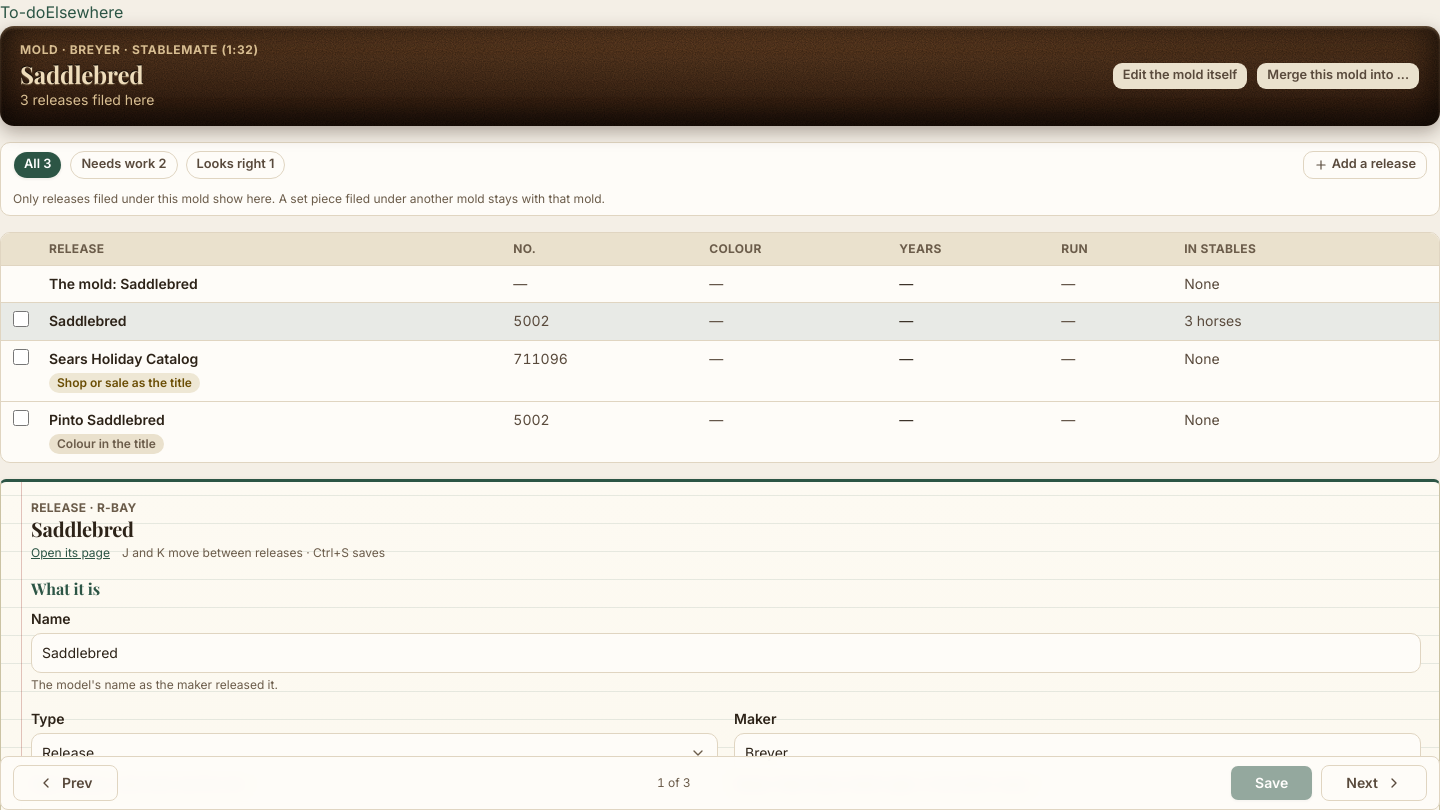
merging and removing › keeps a moderator from merging before 243, and says why
Click the checkbox named "Tick Saddlebred": click(21, 319) [13,311,29,327]
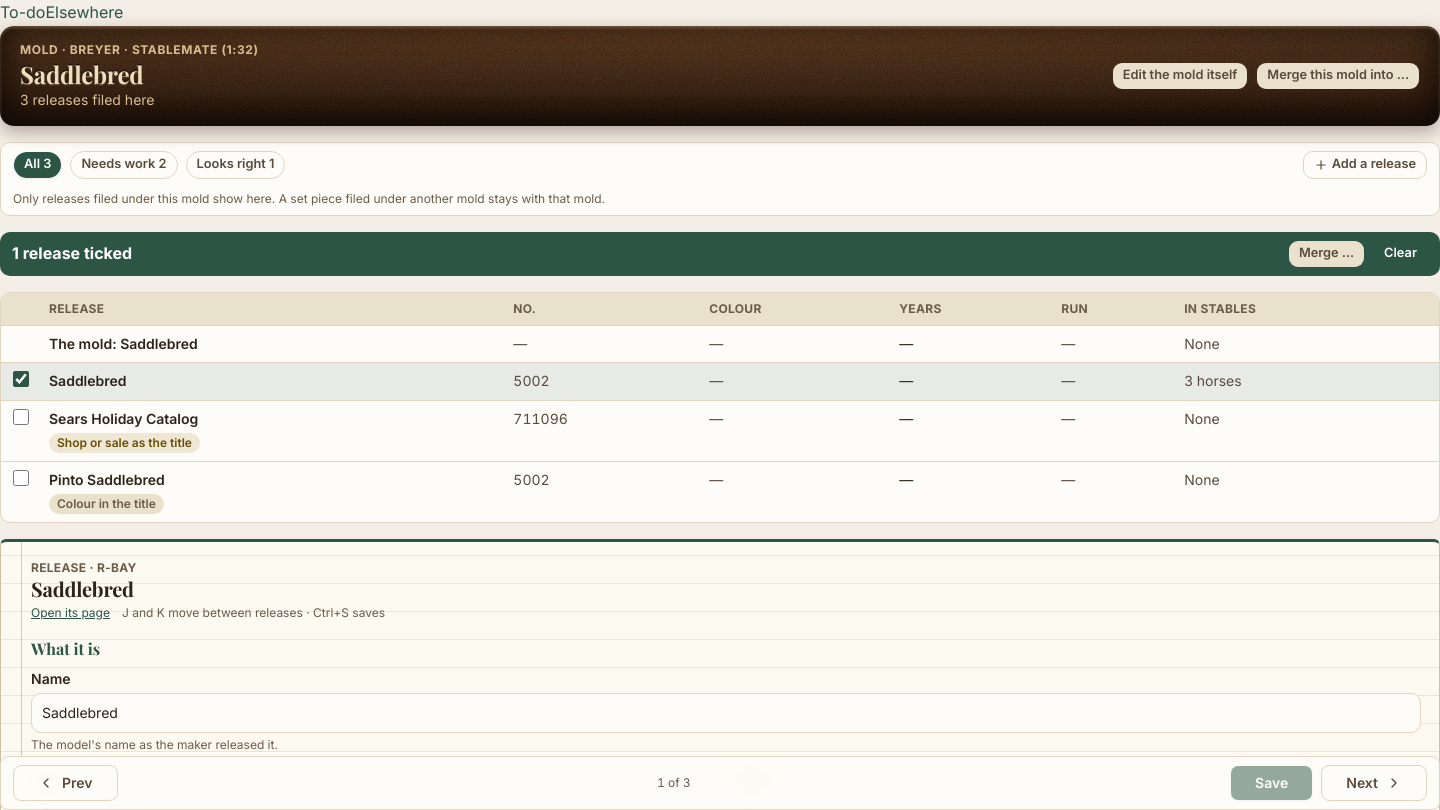
Click the checkbox named "Tick Pinto Saddlebred": click(21, 478) [13,470,29,486]
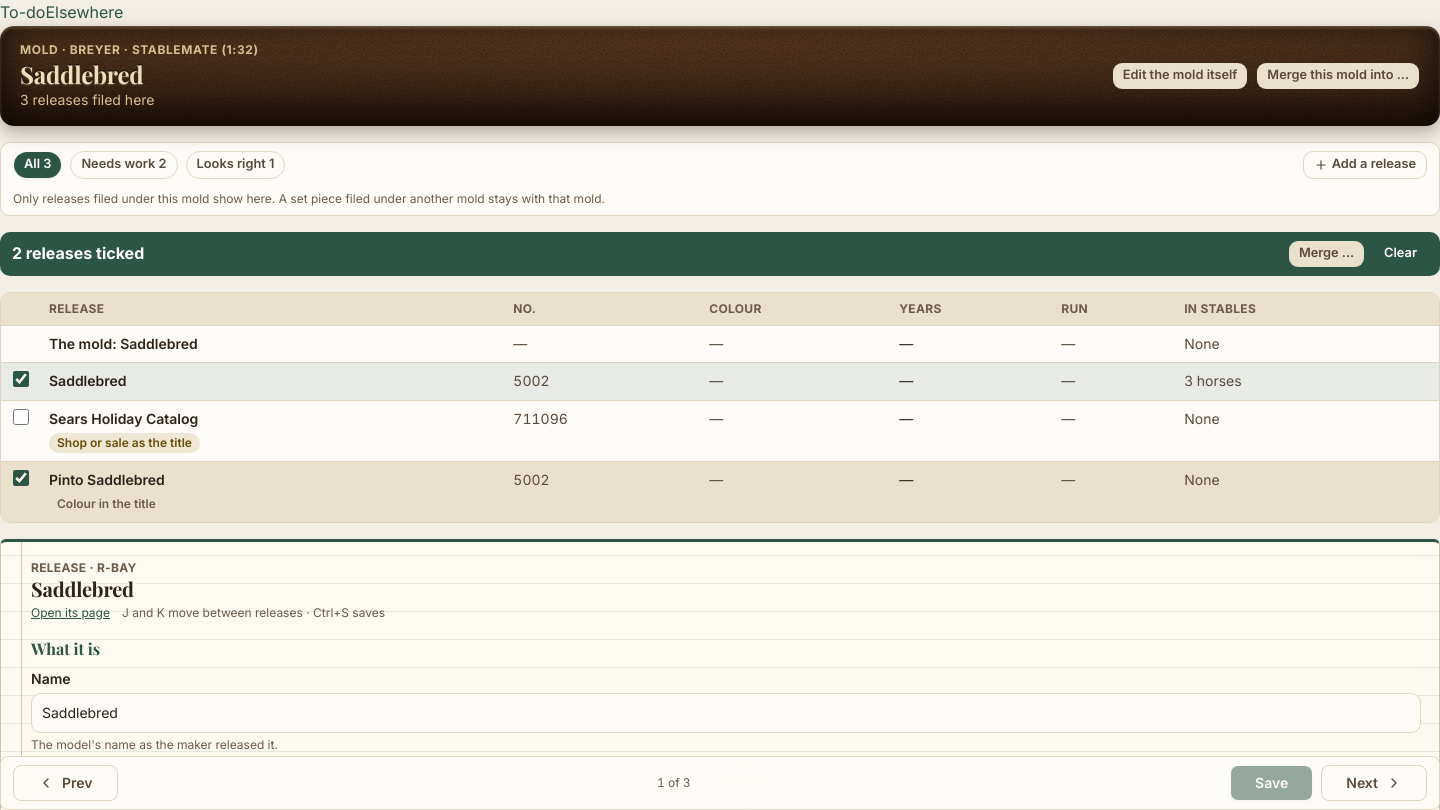
Click the button "Merge ...": click(1326, 254) [1288,240,1365,268]
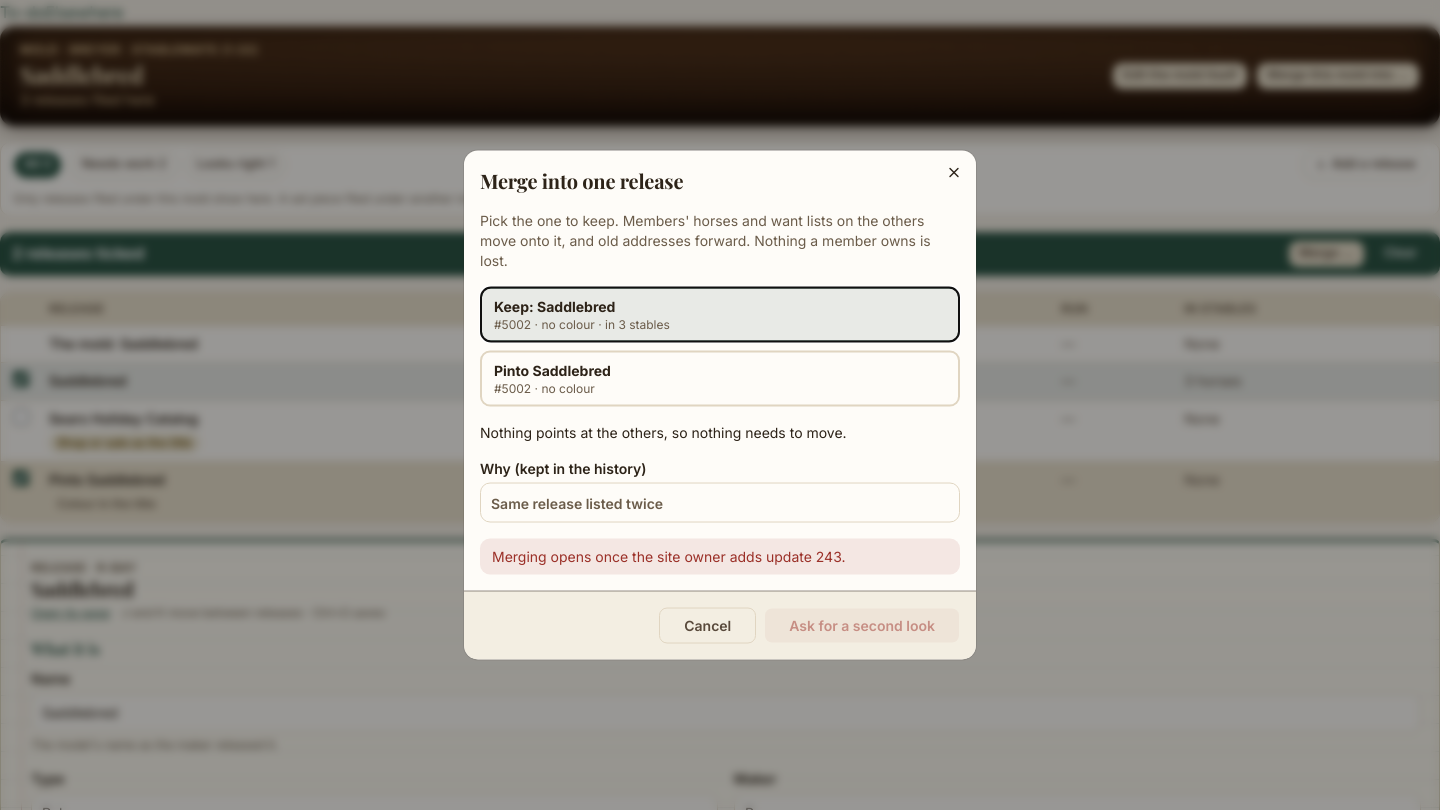
Now the text with test id "merge-note" shows "once the site owner adds update 243", box [492,548,846,564]
Now the button "Ask for a second look" is disabled, box [764,608,960,644]
